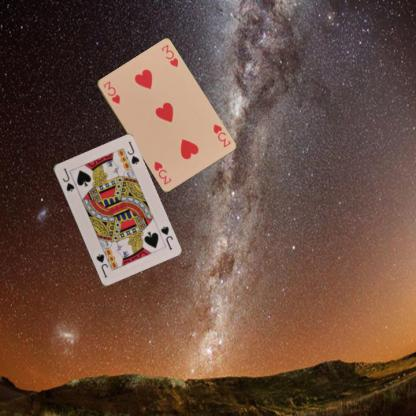3h: (100, 78, 122, 105), (210, 122, 232, 148)
Js: (60, 165, 76, 193), (158, 223, 174, 250)
